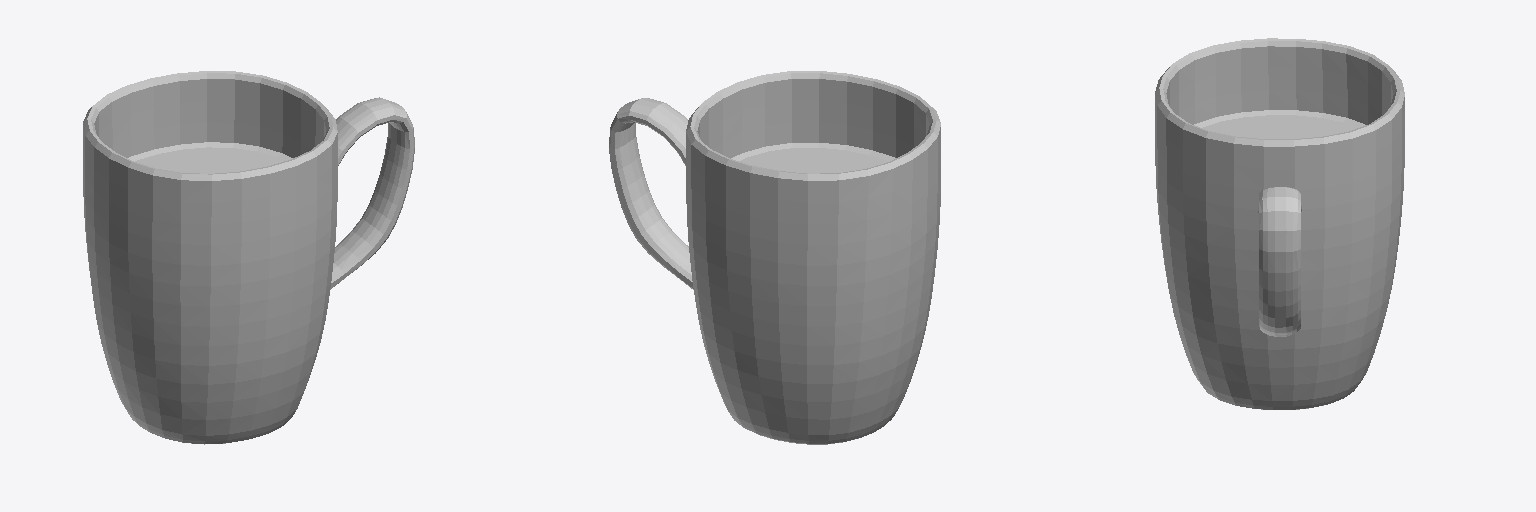
The model's file is cup_2.obj.
3 views of the same model, side by side, from view 1: azimuth 30°, elevation 25°; view 2: azimuth 150°, elevation 25°; view 3: azimuth 270°, elevation 25° (orthographic).
Visible parts, largest first — view 1: polySurface6, polySurface7 teacup:teacup; view 2: polySurface6, polySurface7 teacup:teacup; view 3: polySurface6, polySurface7 teacup:teacup.
Part boxes in pixels (left/top/right/bottom): polySurface6: left=83, top=71, right=414, bottom=444; polySurface7 teacup:teacup: left=128, top=142, right=292, bottom=173; polySurface6: left=609, top=71, right=940, bottom=444; polySurface7 teacup:teacup: left=731, top=143, right=895, bottom=173; polySurface6: left=1155, top=38, right=1404, bottom=409; polySurface7 teacup:teacup: left=1194, top=110, right=1365, bottom=138.
Bounding box in the file's own units: 4.72 × 4.25 × 3.33.